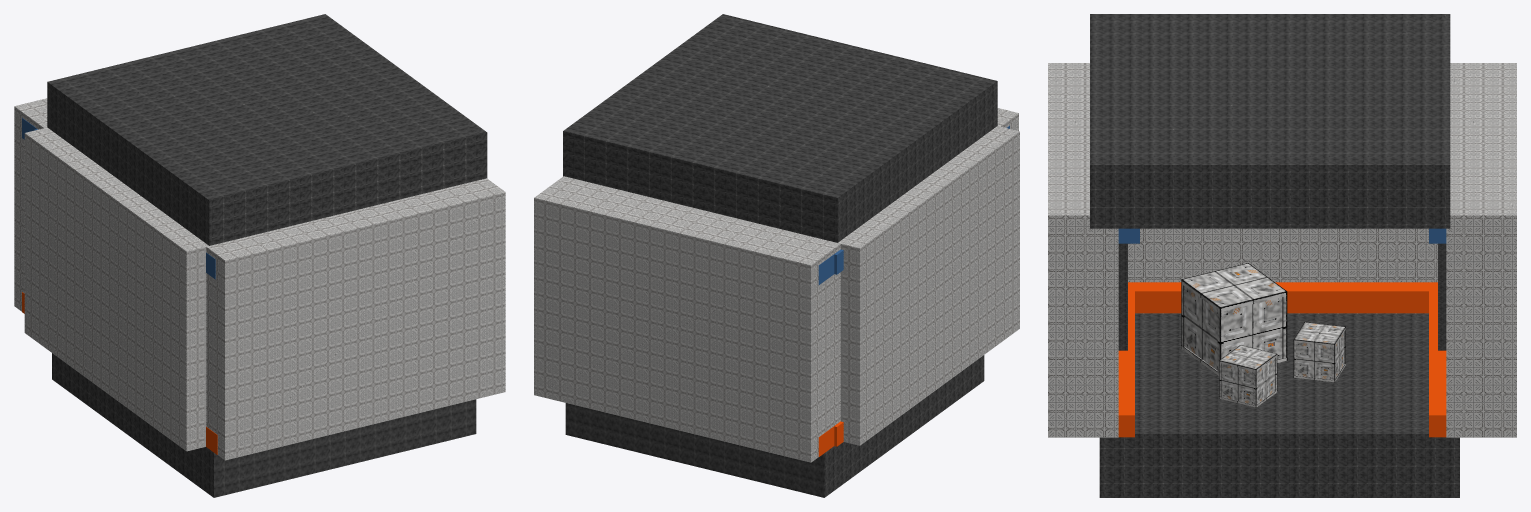
The model's file is Test Room As Unit.obj.
The picture shows the model from 3 angles, left to right: view 1: azimuth 30°, elevation 25°; view 2: azimuth 150°, elevation 25°; view 3: azimuth 270°, elevation 25°; orthographic projection. The views are drawn at different scales.
Parts seen in each view (by area): view 1: Test Room As Unit; view 2: Test Room As Unit; view 3: Test Room As Unit.
Part boxes in pixels (bbox=[...]): Test Room As Unit: bbox=[14, 14, 505, 497]; Test Room As Unit: bbox=[534, 14, 1019, 497]; Test Room As Unit: bbox=[1048, 14, 1516, 497].
Bounding box in the file's own units: 19.88 × 19.13 × 24.13.
8 materials, 6 textured.
